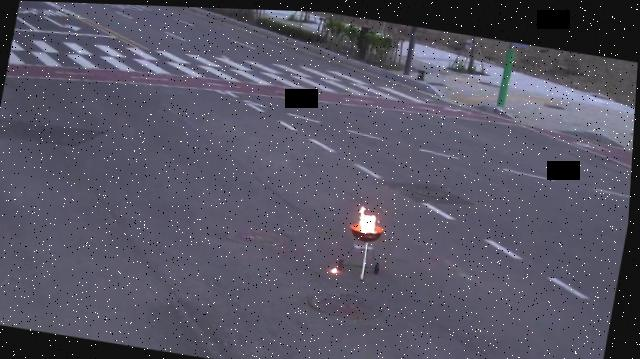fire: (356, 201, 384, 232)
